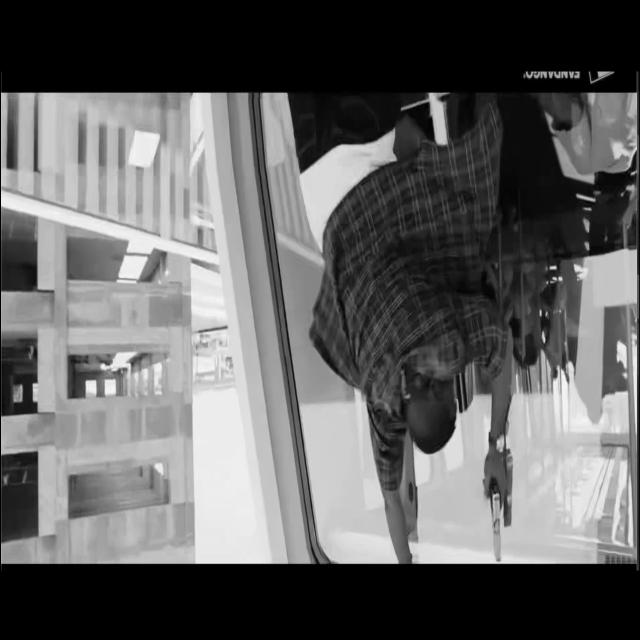weapons: (475, 449, 513, 563)
